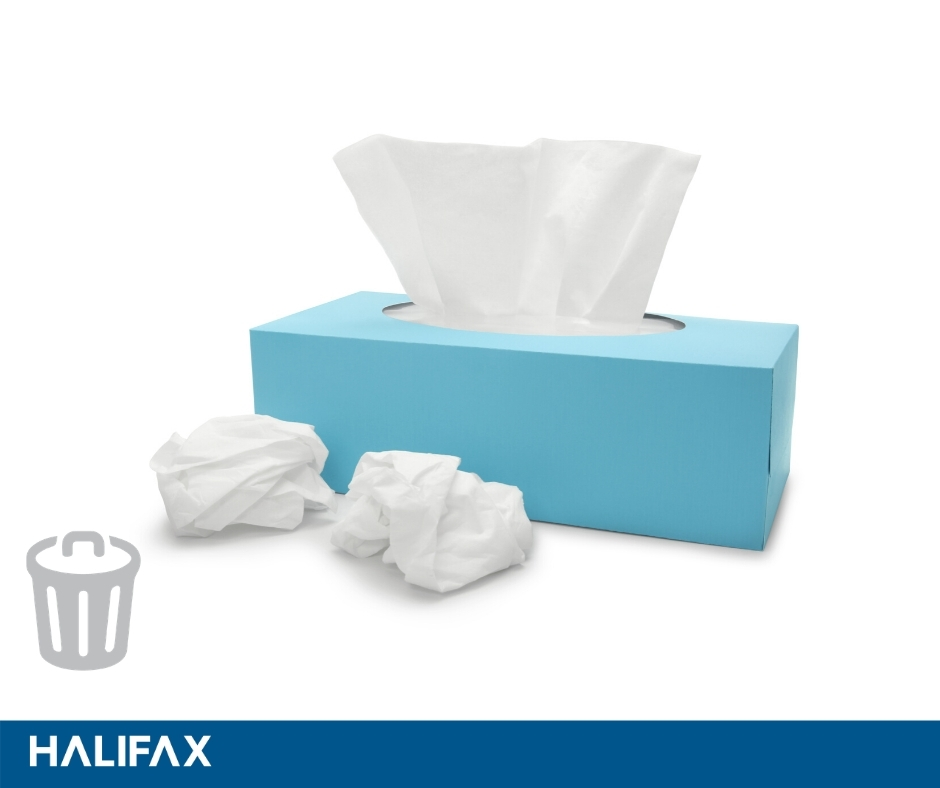paper: (230, 271, 815, 567), (317, 105, 687, 336), (304, 431, 551, 606), (134, 383, 348, 574)
